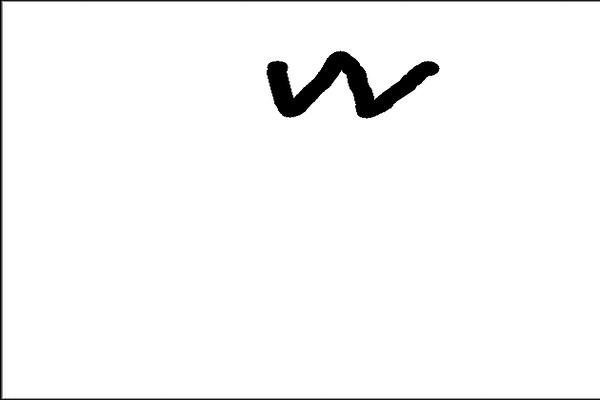w: (238, 32, 460, 137)
